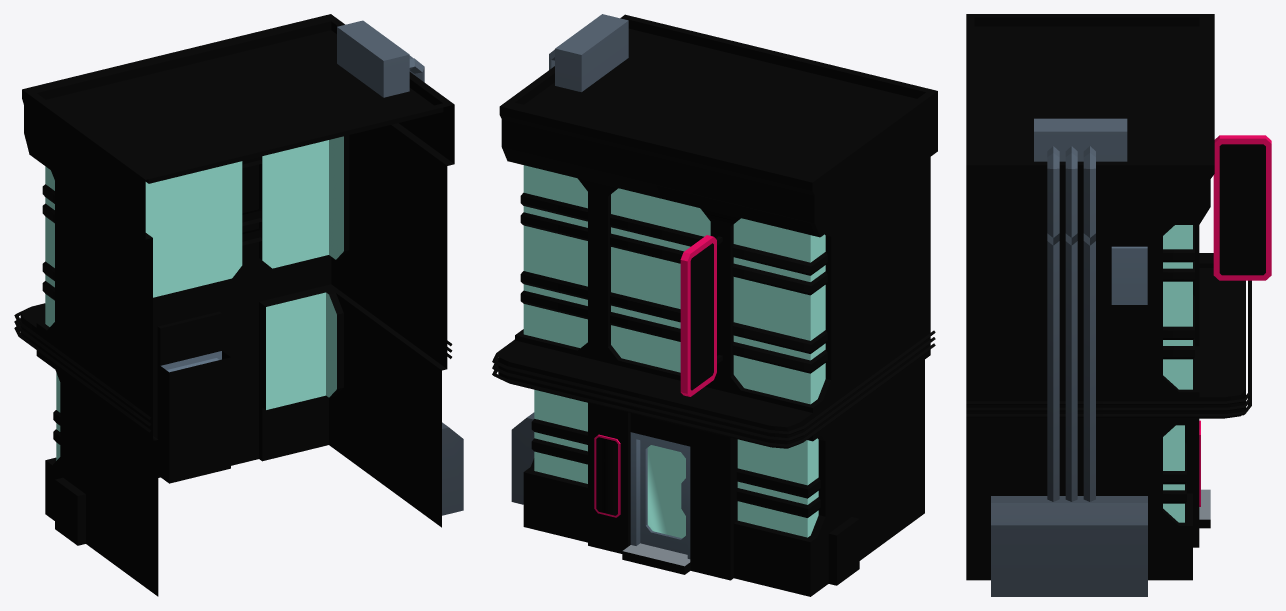
Rendered from Comercio_Edificio_02.FBX.
3 views of the same model, side by side, from view 1: azimuth 30°, elevation 25°; view 2: azimuth 150°, elevation 25°; view 3: azimuth 270°, elevation 25° (orthographic).
Visible parts, largest first — view 1: Comercio_Edificio_02; view 2: Comercio_Edificio_02; view 3: Comercio_Edificio_02.
Boxes of the visible parts, x1,y1,x2,y2 form: Comercio_Edificio_02: [14, 14, 463, 596]; Comercio_Edificio_02: [492, 14, 937, 596]; Comercio_Edificio_02: [966, 14, 1271, 596].
Bounding box in the file's own units: 964 × 771 × 1250.
